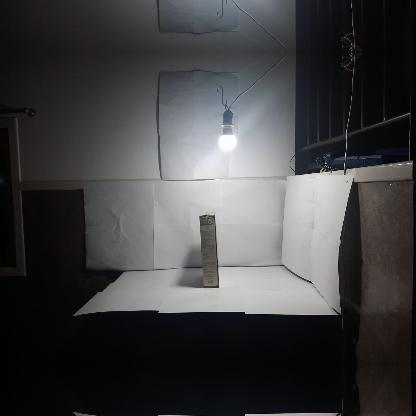Koko-Krunch: (199, 210, 219, 288)
